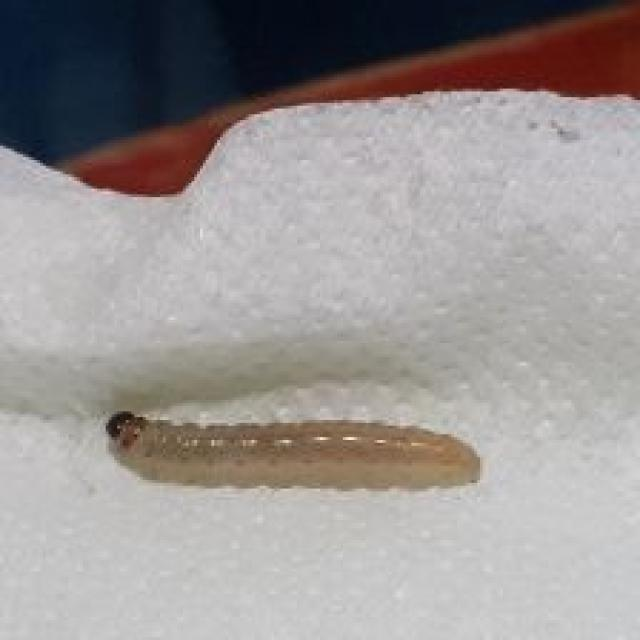white mucus: (94, 399, 508, 489)
